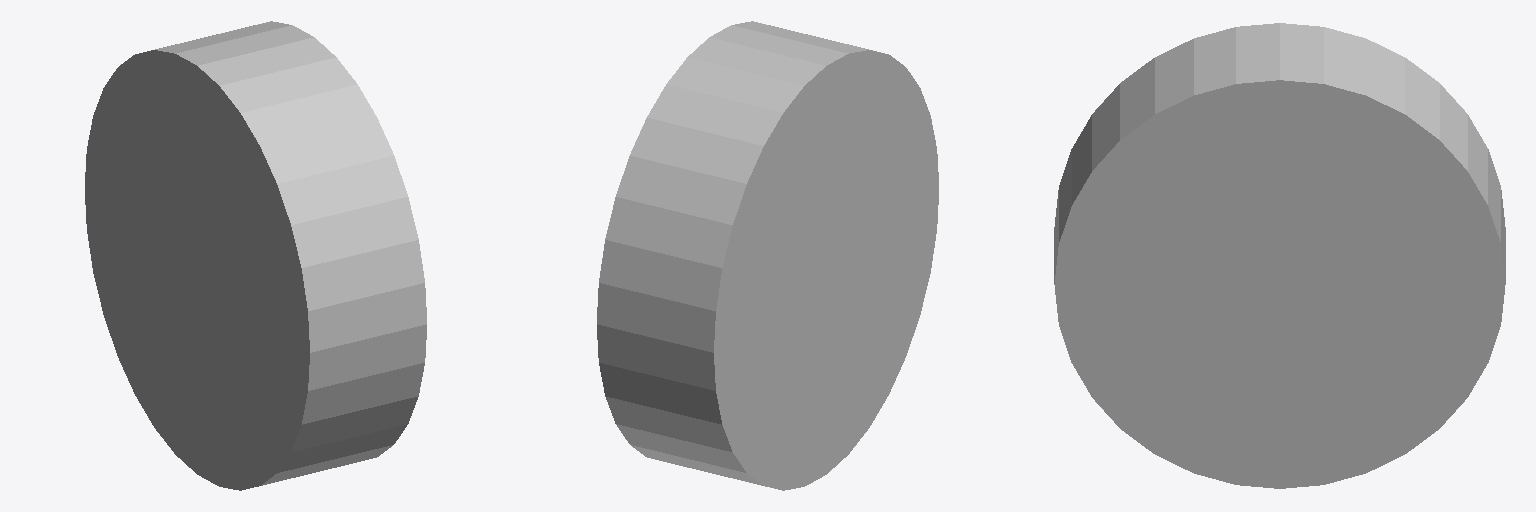
Rendered from wheel2.obj.
3 renders of one model, left to right at view 1: azimuth 30°, elevation 25°; view 2: azimuth 150°, elevation 25°; view 3: azimuth 270°, elevation 25°, orthographic.
Visible parts, largest first — view 1: Cylinder; view 2: Cylinder; view 3: Cylinder.
Part boxes in pixels (bbox=[...]): Cylinder: bbox=[85, 21, 426, 490]; Cylinder: bbox=[597, 21, 938, 490]; Cylinder: bbox=[1054, 23, 1505, 488].
Size of the model in its own units: 0.6 by 2 by 2.